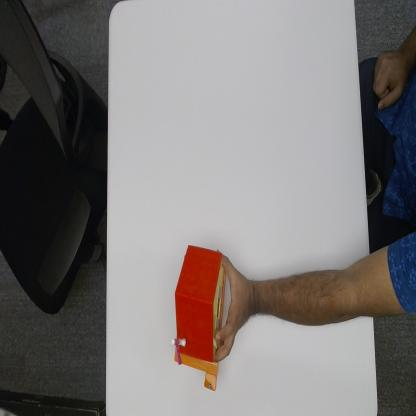Arm: (255, 262, 376, 330)
Hand: (217, 248, 253, 358)
House: (171, 245, 223, 392)
